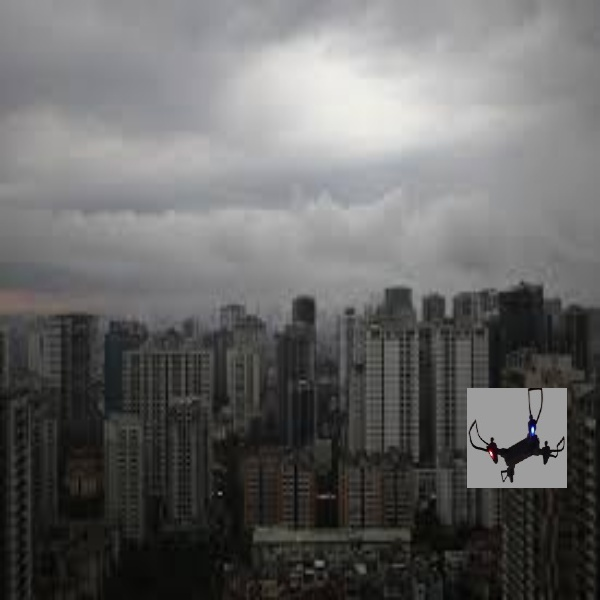drone: (469, 385, 569, 486)
